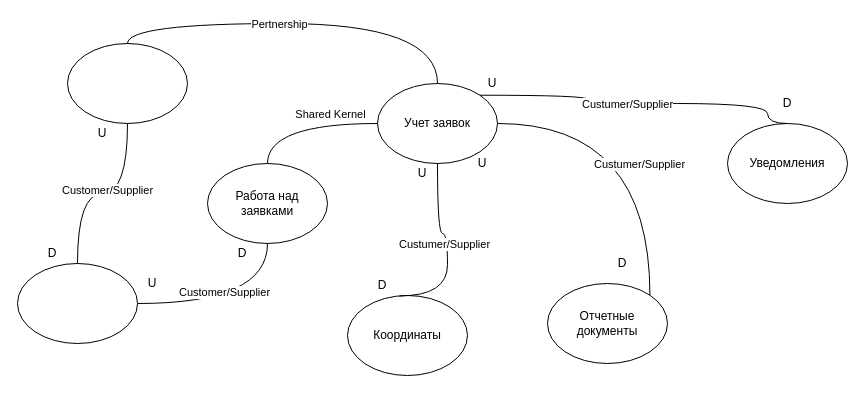
Some shapes in this 865 by 393 pixel diagram are drawn without their labels. Each missing label, with the centre of its shape:
"Склады и Оборудование" belongs at pixel 77 303.
"Сотрудники" belongs at pixel 127 83.
